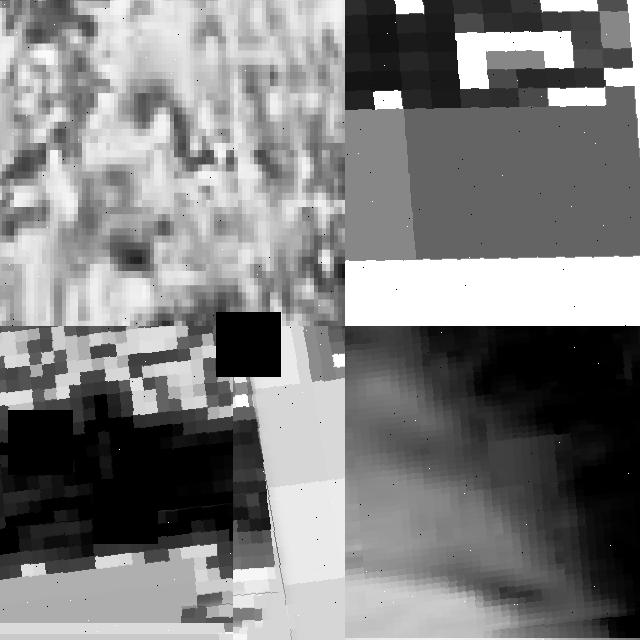arms: (0, 326, 345, 634), (0, 326, 345, 623), (345, 0, 640, 326), (345, 326, 640, 640), (345, 326, 640, 638), (233, 326, 345, 640)
